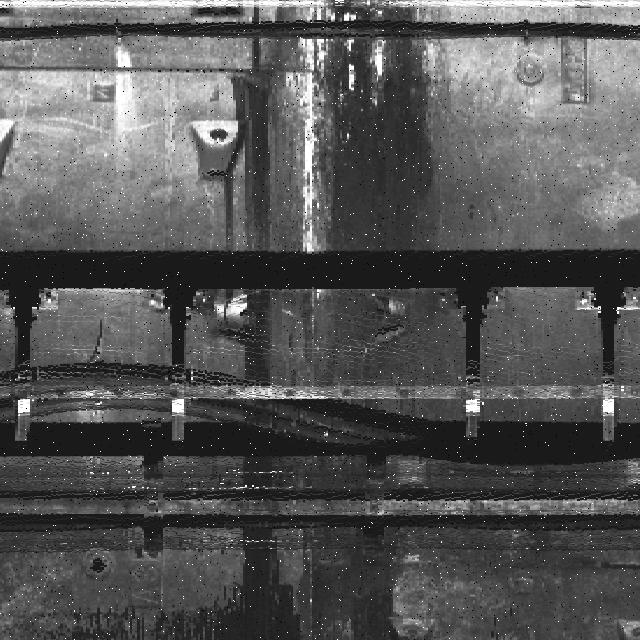leakage: (318, 0, 436, 639), (215, 8, 304, 639)
